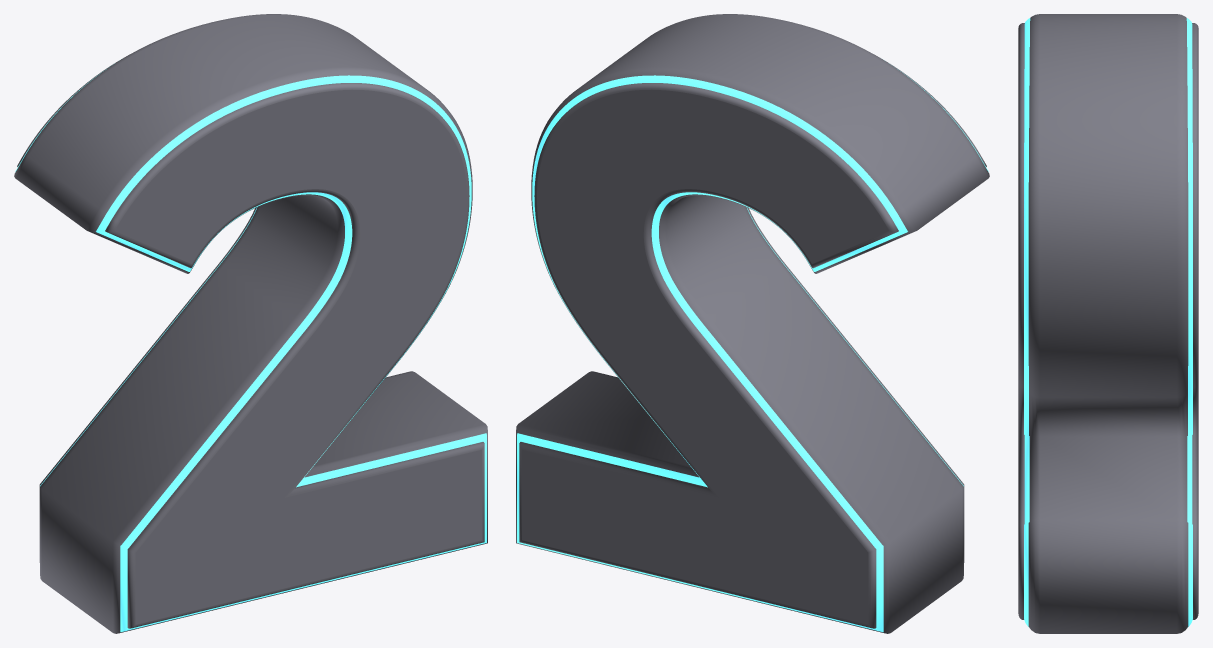
The picture shows the model from 3 angles, left to right: view 1: azimuth 30°, elevation 25°; view 2: azimuth 150°, elevation 25°; view 3: azimuth 270°, elevation 25°; orthographic projection. The views are drawn at different scales.
Visible parts, largest first — view 1: N_2_smaller, N_2_side, N_2_border; view 2: N_2_smaller, N_2_side, N_2_border; view 3: N_2_side, N_2_smaller, N_2_border.
Boxes of the visible parts, x1,y1,x2,y2 form: N_2_smaller: (17,54,484,628); N_2_side: (14,14,487,633); N_2_border: (15,69,486,632); N_2_smaller: (519,54,986,628); N_2_side: (516,14,989,633); N_2_border: (517,69,988,632); N_2_side: (1028,14,1188,633); N_2_smaller: (1018,23,1198,619); N_2_border: (1024,18,1192,626).
Size of the model in its own units: 45.43 by 56.06 by 18.4.
